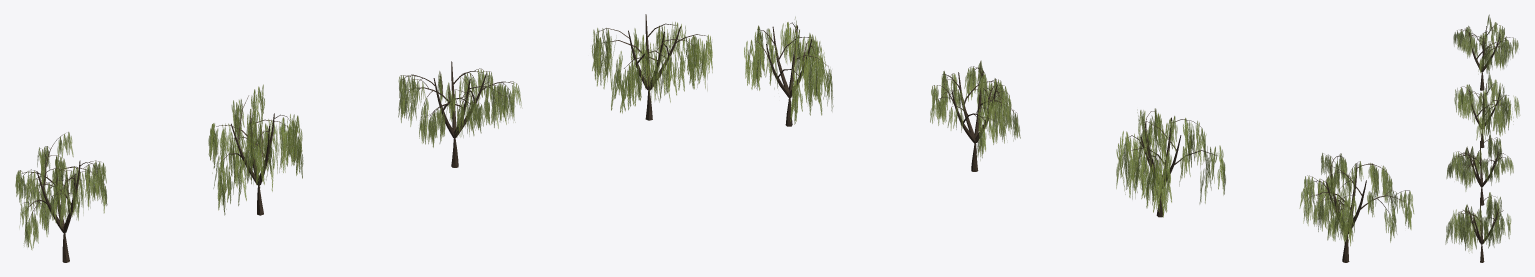
The model's file is tree_willow.glb.
The picture shows the model from 3 angles, left to right: view 1: azimuth 30°, elevation 25°; view 2: azimuth 150°, elevation 25°; view 3: azimuth 270°, elevation 25°; orthographic projection. The views are drawn at different scales.
Parts seen in each view (by area): view 1: v0_lo_leaf, v1_lo_leaf, v0_hi_leaf, v1_hi_leaf, v1_hi_bark, v0_hi_bark, v1_lo_bark, v0_lo_bark; view 2: v0_lo_leaf, v0_hi_leaf, v1_lo_leaf, v1_hi_leaf, v1_hi_bark, v0_hi_bark, v1_lo_bark, v0_lo_bark; view 3: v0_lo_leaf, v1_lo_leaf, v0_hi_leaf, v1_hi_leaf, v1_hi_bark, v0_hi_bark, v1_lo_bark, v0_lo_bark.
Part boxes in pixels (left/top/right/bottom): v0_lo_leaf: left=208, top=84, right=303, bottom=215; v1_lo_leaf: left=592, top=22, right=712, bottom=113; v0_hi_leaf: left=15, top=132, right=107, bottom=250; v1_hi_leaf: left=398, top=69, right=521, bottom=147; v1_hi_bark: left=400, top=61, right=517, bottom=167; v0_hi_bark: left=18, top=133, right=104, bottom=262; v1_lo_bark: left=596, top=14, right=707, bottom=120; v0_lo_bark: left=216, top=95, right=291, bottom=215; v0_lo_leaf: left=1116, top=108, right=1225, bottom=217; v0_hi_leaf: left=1299, top=153, right=1413, bottom=245; v1_lo_leaf: left=744, top=17, right=833, bottom=124; v1_hi_leaf: left=930, top=60, right=1020, bottom=160; v1_hi_bark: left=933, top=61, right=1017, bottom=171; v0_hi_bark: left=1305, top=153, right=1409, bottom=262; v1_lo_bark: left=756, top=22, right=828, bottom=126; v0_lo_bark: left=1128, top=111, right=1217, bottom=217; v0_lo_leaf: left=1454, top=72, right=1519, bottom=140; v1_lo_leaf: left=1445, top=192, right=1511, bottom=252; v0_hi_leaf: left=1453, top=14, right=1518, bottom=73; v1_hi_leaf: left=1446, top=135, right=1513, bottom=191; v1_hi_bark: left=1449, top=137, right=1510, bottom=205; v0_hi_bark: left=1460, top=19, right=1515, bottom=90; v1_lo_bark: left=1454, top=195, right=1503, bottom=262; v0_lo_bark: left=1460, top=82, right=1508, bottom=147.
Bounding box in the file's own units: 71.52 × 11.71 × 11.27.
Materials: 2 (2 with a texture image).
